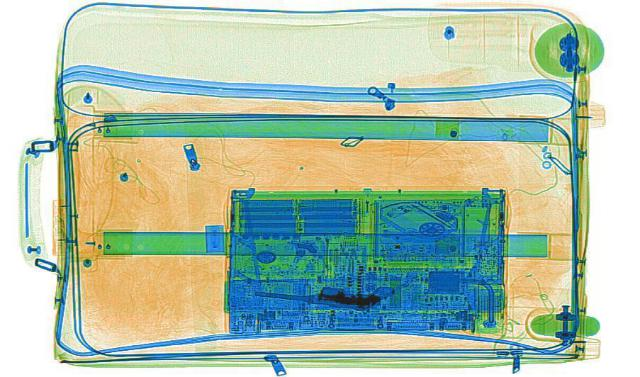Gun: (249, 269, 397, 314)
